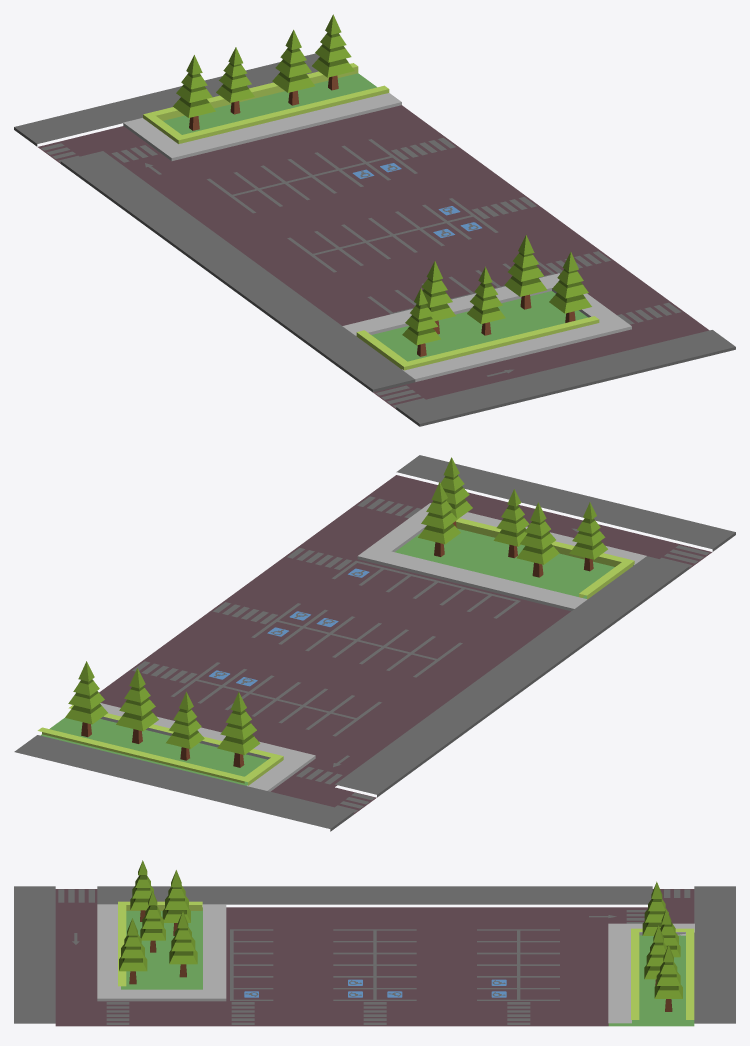
File: parking_lvl_5.FBX
The picture shows the model from 3 angles, top to bottom: view 1: azimuth 30°, elevation 25°; view 2: azimuth 150°, elevation 25°; view 3: azimuth 270°, elevation 25°; orthographic projection. The views are drawn at different scales.
Visible parts, largest first — view 1: parking_lvl_5; view 2: parking_lvl_5; view 3: parking_lvl_5.
Boxes of the visible parts, x1,y1,x2,y2 form: parking_lvl_5: (14, 14, 735, 426); parking_lvl_5: (14, 455, 735, 831); parking_lvl_5: (14, 860, 735, 1026).
Size of the model in its own units: 5852 by 1436 by 13000.
